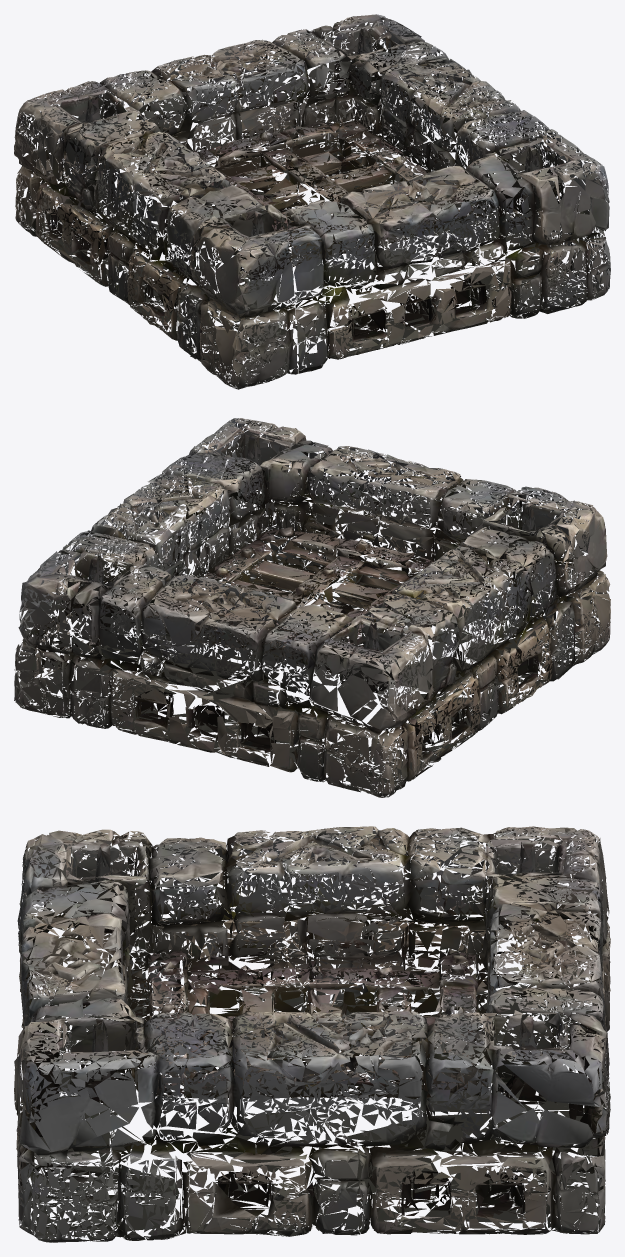
File: SpikeTrap_Base.fbx
3 views of the same model, one above another, from view 1: azimuth 30°, elevation 25°; view 2: azimuth 150°, elevation 25°; view 3: azimuth 270°, elevation 25° (orthographic). The views are drawn at different scales.
Parts seen in each view (by area): view 1: SpikeTrap_Base; view 2: SpikeTrap_Base; view 3: SpikeTrap_Base.
Part boxes in pixels (x1=…): SpikeTrap_Base: x1=14, y1=14, x2=610, y2=389; SpikeTrap_Base: x1=14, y1=418, x2=610, y2=797; SpikeTrap_Base: x1=14, y1=826, x2=610, y2=1242.
Size of the model in its own units: 0.9618 by 0.3533 by 0.9809.
1 material, 1 textured.
